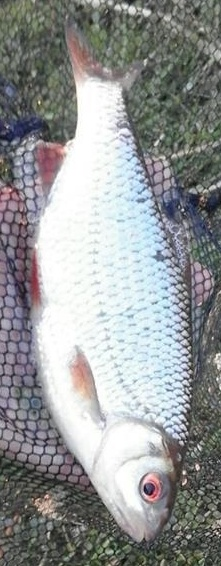Rutilus rutilus: (20, 20, 201, 546)
